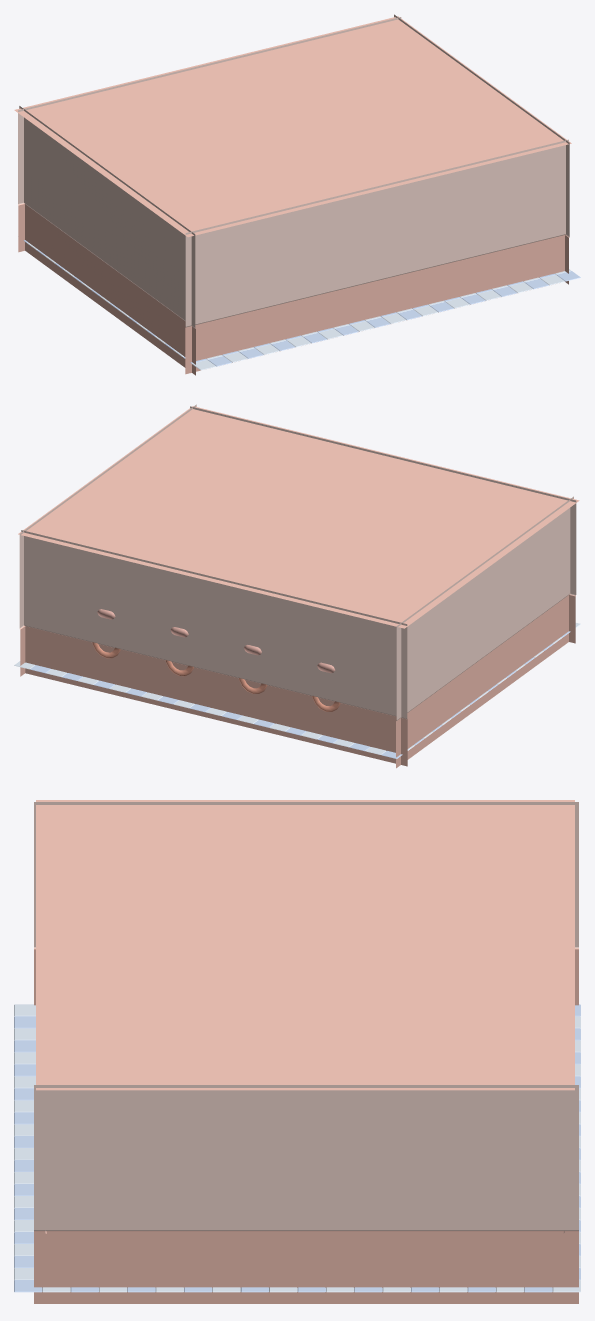
Rendered from Robby-0.1.0.fbx.
3 renders of one model, top to bottom at view 1: azimuth 30°, elevation 25°; view 2: azimuth 150°, elevation 25°; view 3: azimuth 270°, elevation 25°, orthographic. The views are drawn at different scales.
Parts seen in each view (by area): view 1: Plane.004, Plane.002, Plane.003, Cube.002; view 2: Plane.004, Plane.002, Plane.003, Cube.002, Cube.003; view 3: Plane.004, Plane.003, Cube.002.
Boxes of the visible parts, left/top/right/bottom form: Plane.004: left=14, top=16, right=571, bottom=237; Plane.002: left=18, top=17, right=568, bottom=374; Plane.003: left=19, top=14, right=569, bottom=375; Cube.002: left=23, top=240, right=580, bottom=370; Plane.004: left=18, top=406, right=579, bottom=628; Plane.002: left=21, top=406, right=576, bottom=766; Plane.003: left=19, top=404, right=573, bottom=768; Cube.002: left=14, top=623, right=580, bottom=758; Cube.003: left=92, top=609, right=340, bottom=711; Plane.004: left=36, top=800, right=574, bottom=1090; Plane.003: left=34, top=802, right=578, bottom=1303; Cube.002: left=14, top=1004, right=580, bottom=1292.
Bounding box in the file's own units: 50.23 × 17.61 × 41.23.
